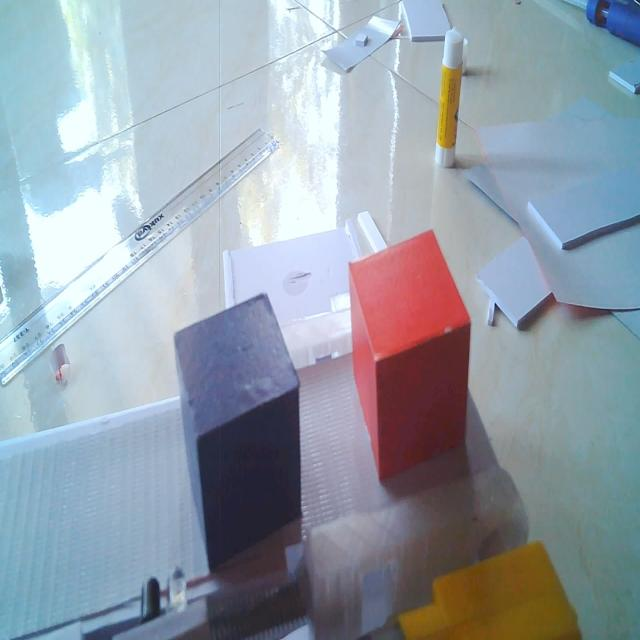blue: (174, 290, 312, 576)
red: (343, 221, 477, 484)
